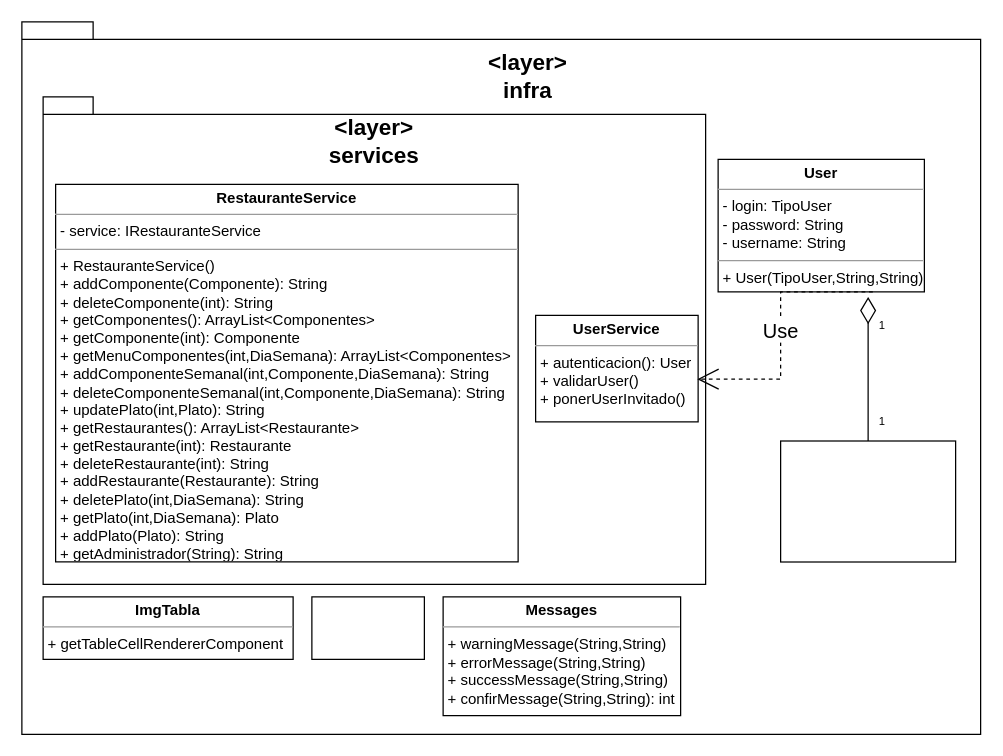
This 1003x756 diagram has some shape labels left out. Each missing label, with the centre of its shape:
<<Enum>> TipoUser - ADMINISTRADOR: int - CLIENTE: int - VISITANTE: int: the point at 867,501
Security - usuario: User: the point at 367,627
